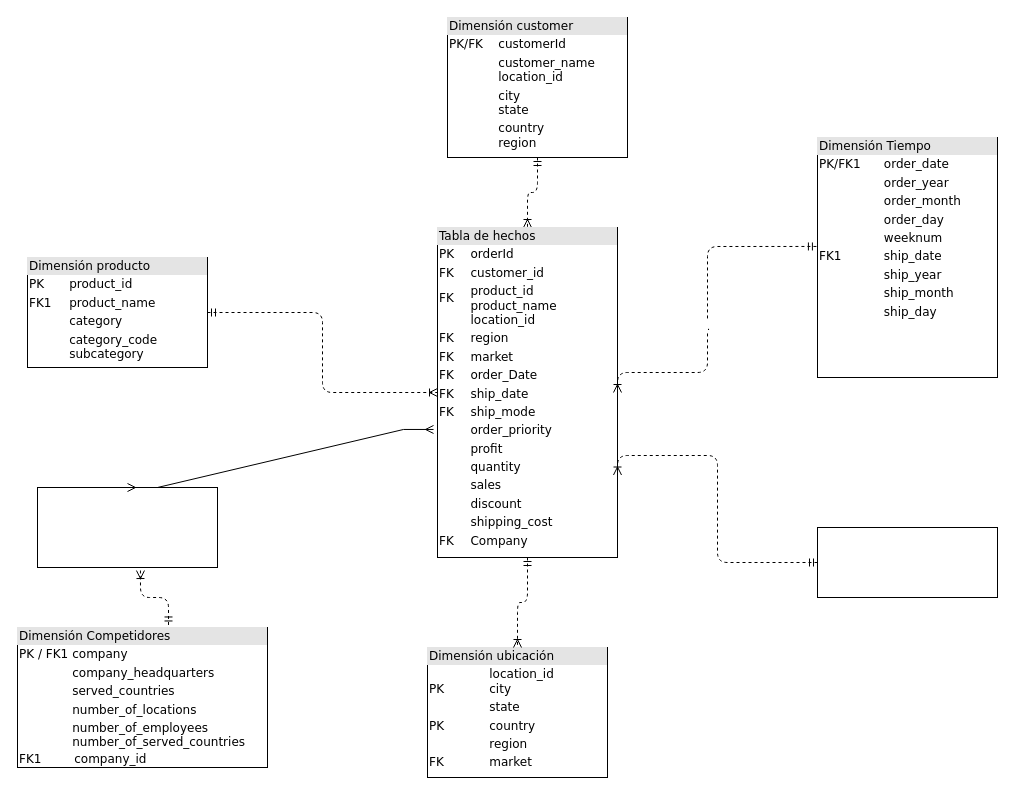
The diagram is 1015 pixels wide and 795 high, and some of its shapes have lost their labels. Here are the shapes that lost their labels. From the top down, the centre of each, then its label:
At (x=127, y=527): "superstore_supermarket_link FK order_id FK country FK company_id".
At (x=907, y=562): "Dimensión Envío PK ship_mode FK1 shipping_cost".
